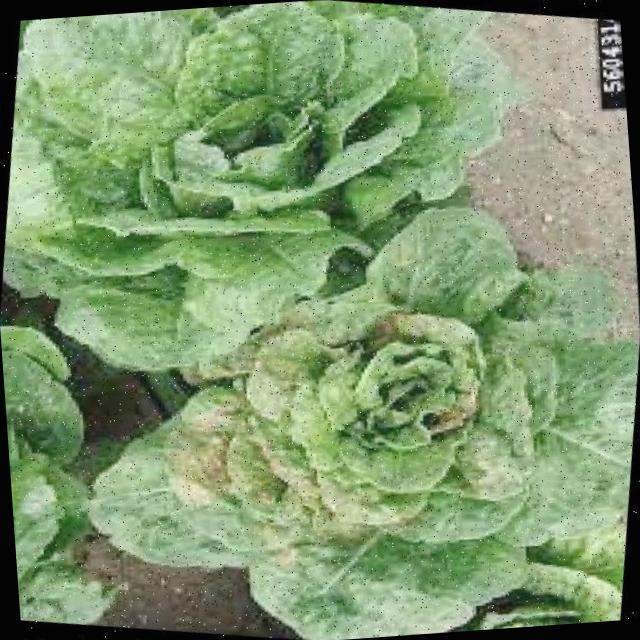Lettuce Mosaic Virus: (113, 206, 640, 625)
